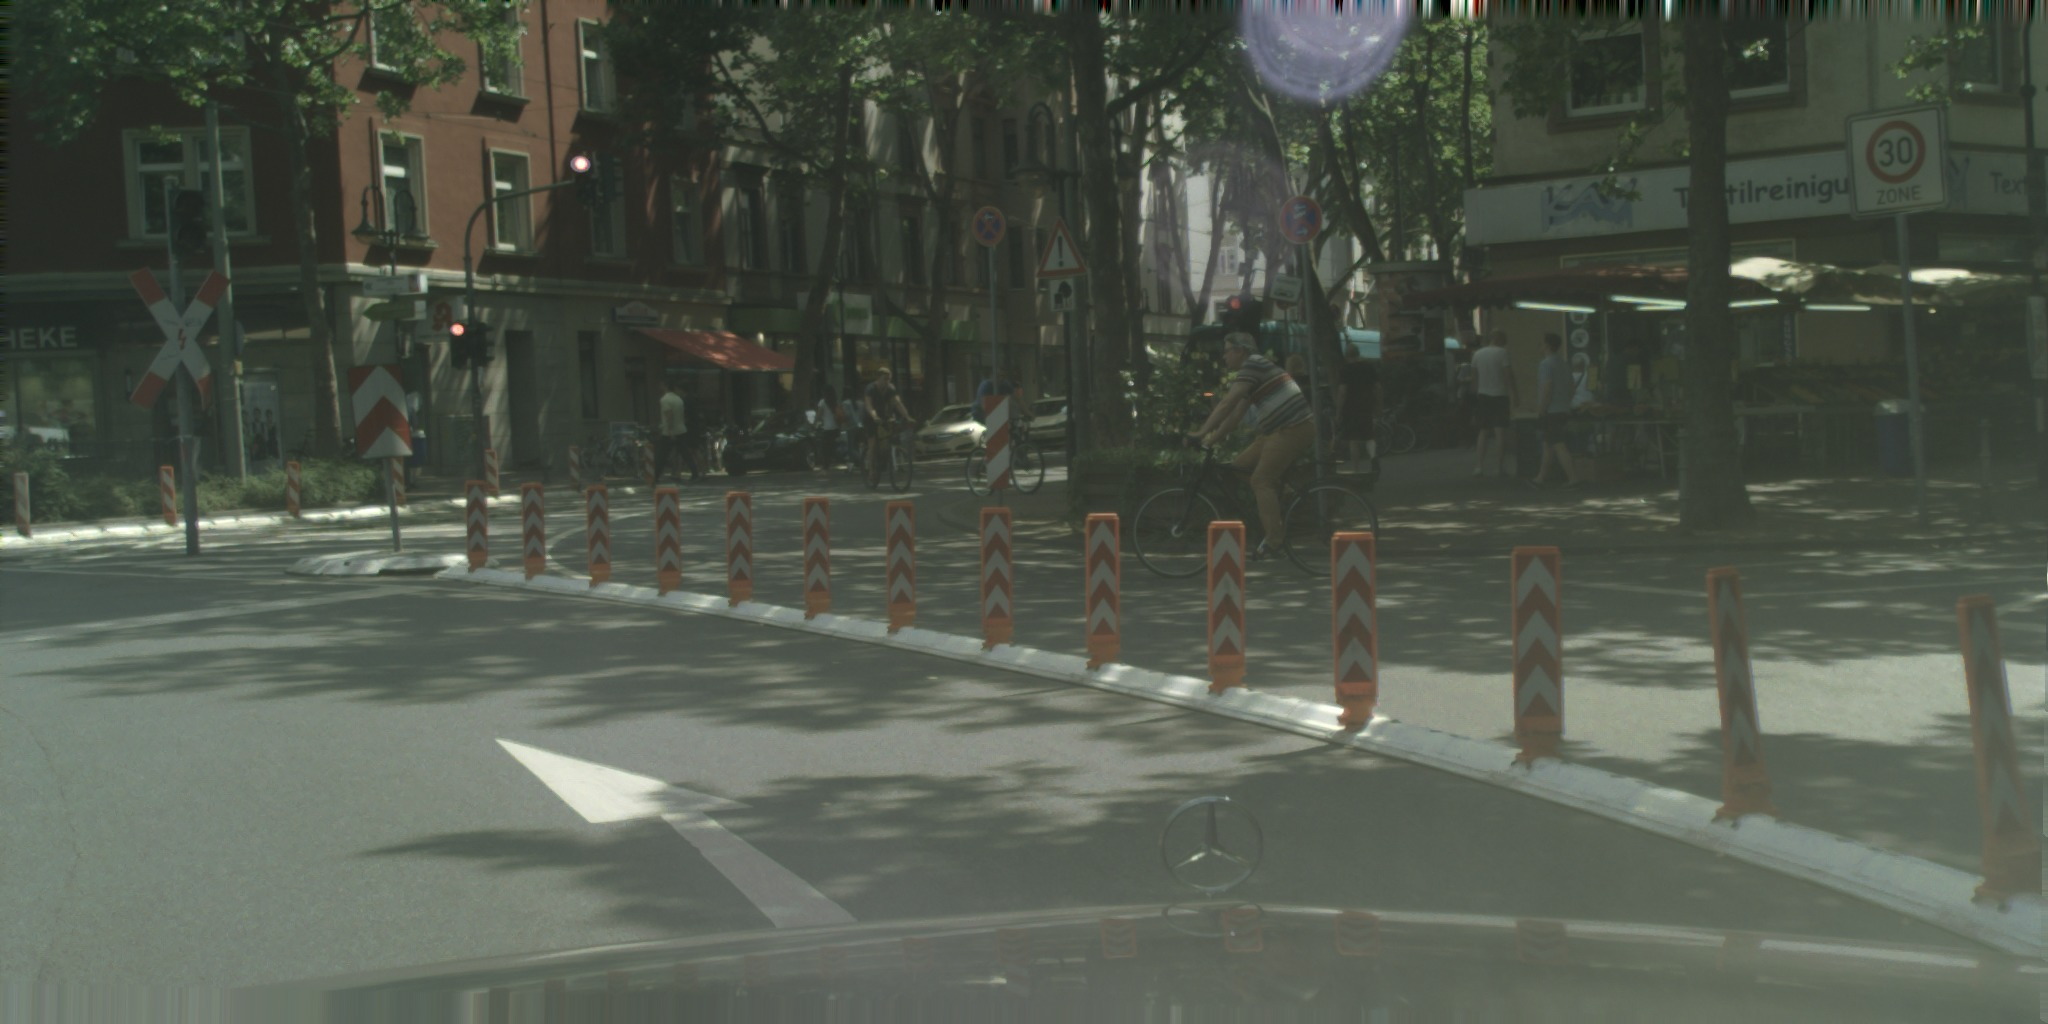bicycle: (1129, 436, 1378, 580), (963, 416, 1046, 498), (268, 428, 375, 485), (861, 418, 917, 493), (580, 431, 631, 477), (621, 425, 658, 477)
car: (721, 409, 855, 477), (913, 402, 996, 461), (1023, 397, 1071, 450)
person: (1523, 333, 1582, 491), (1470, 328, 1520, 477), (1333, 343, 1383, 483), (650, 378, 700, 485), (813, 385, 854, 477), (669, 380, 707, 479), (1599, 337, 1645, 416), (1448, 345, 1486, 416), (839, 385, 866, 475), (1282, 354, 1315, 423)
rider: (1180, 331, 1317, 561), (862, 367, 916, 480), (970, 367, 1035, 432)
train: (1178, 320, 1489, 417)
